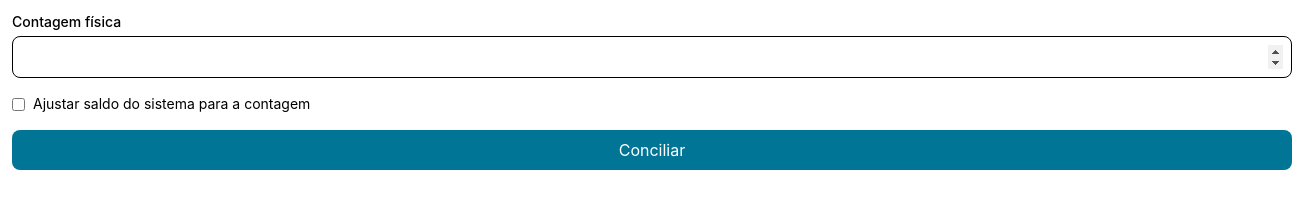
Test: ContagemForm › FE-16 exige a contagem física
Click the button "Conciliar" at {"x": 652, "y": 150}, box 12,130 -> 1292,170
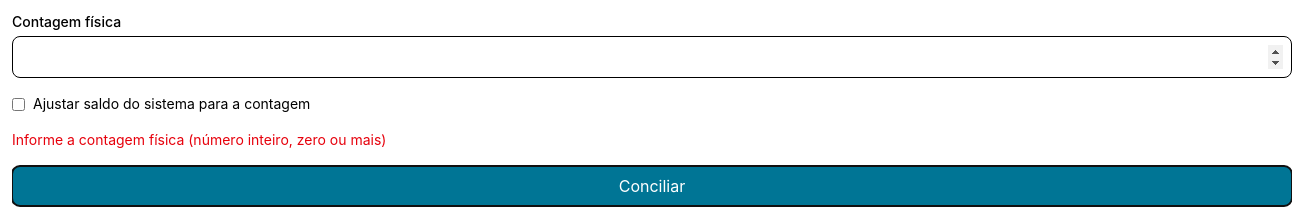
Expected: the message shows "Informe a contagem física", 12,131 -> 386,148
